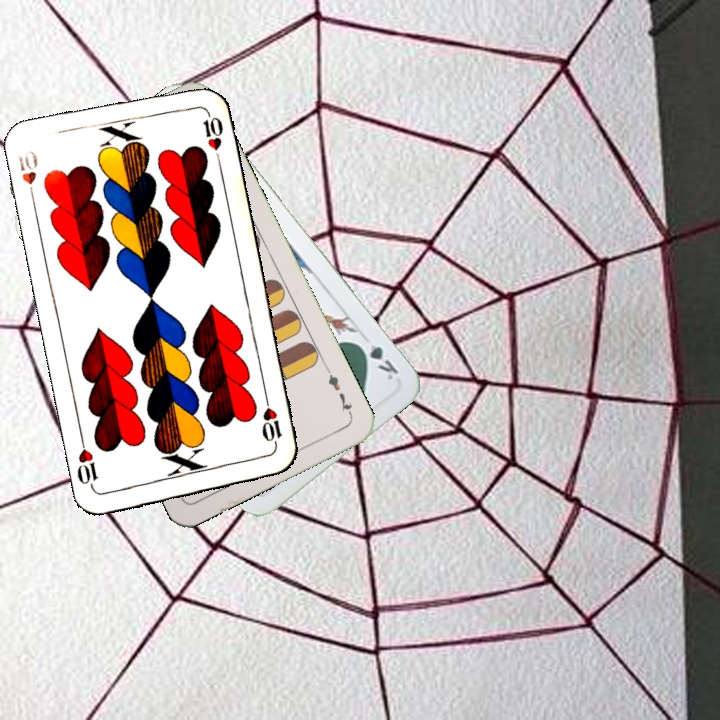E7: (323, 364, 355, 419)
GK: (353, 337, 402, 383)
H10: (258, 393, 285, 453), (14, 146, 40, 205)
